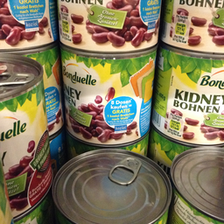beans: (60, 43, 154, 148), (1, 52, 47, 222), (156, 44, 224, 147)
